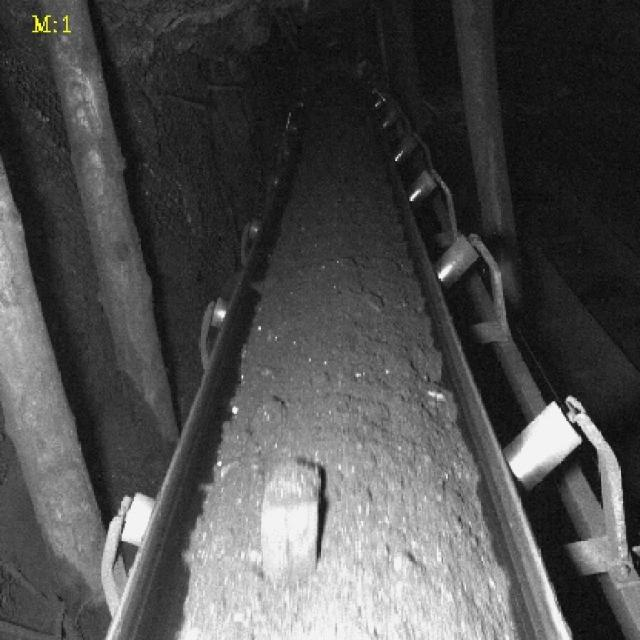large_sized_coal: (257, 461, 325, 577)
